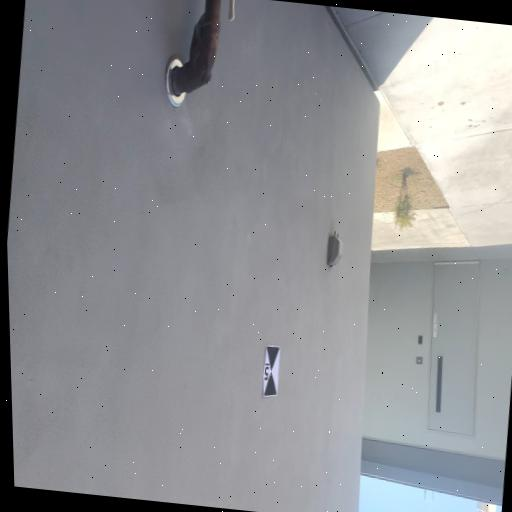target5: (262, 346, 281, 397)
